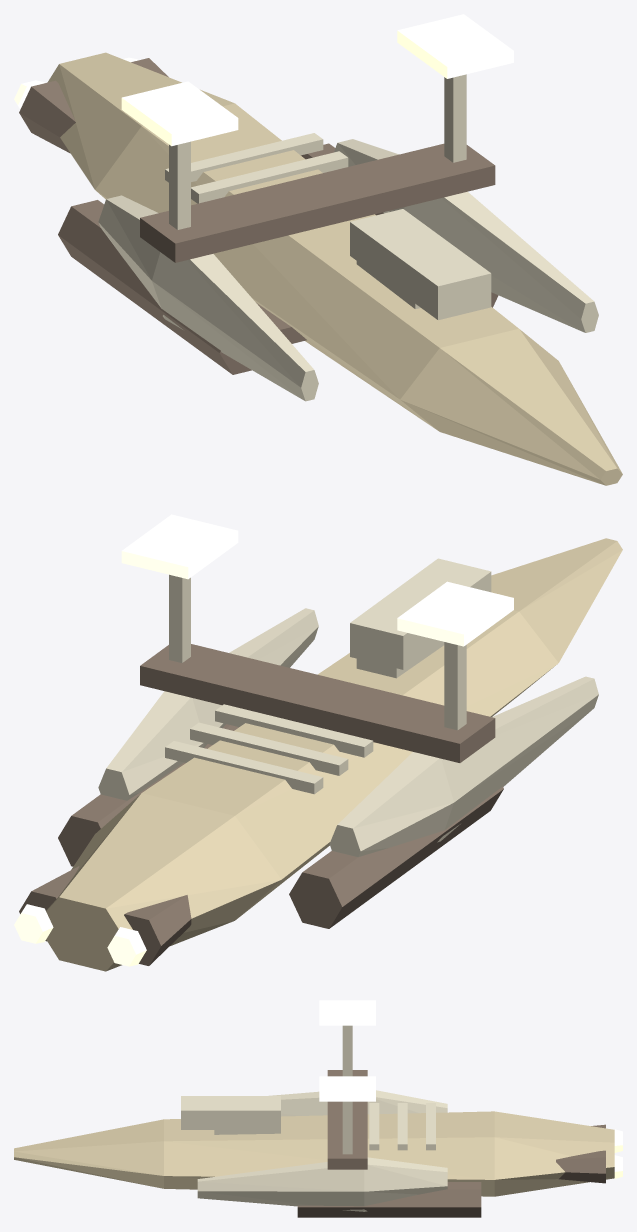
The picture shows the model from 3 angles, top to bottom: view 1: azimuth 30°, elevation 25°; view 2: azimuth 150°, elevation 25°; view 3: azimuth 270°, elevation 25°; orthographic projection. The views are drawn at different scales.
Size of the model in its own units: 2.96 by 1.98 by 8.03.
